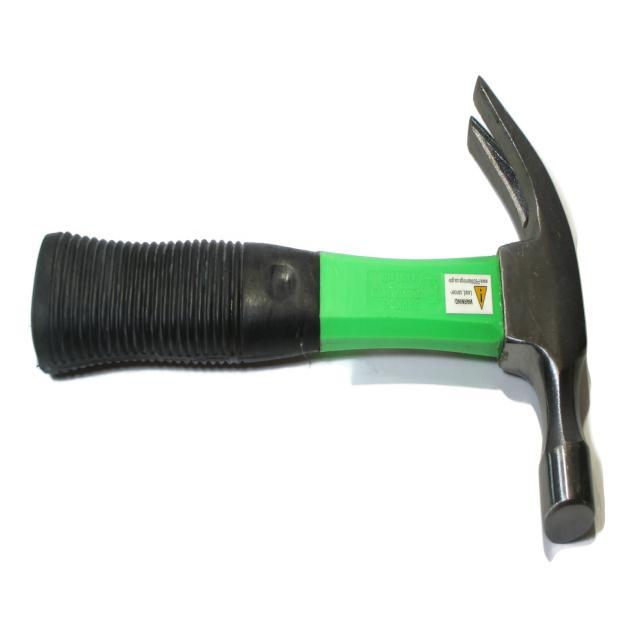hammer: (23, 68, 599, 554)
